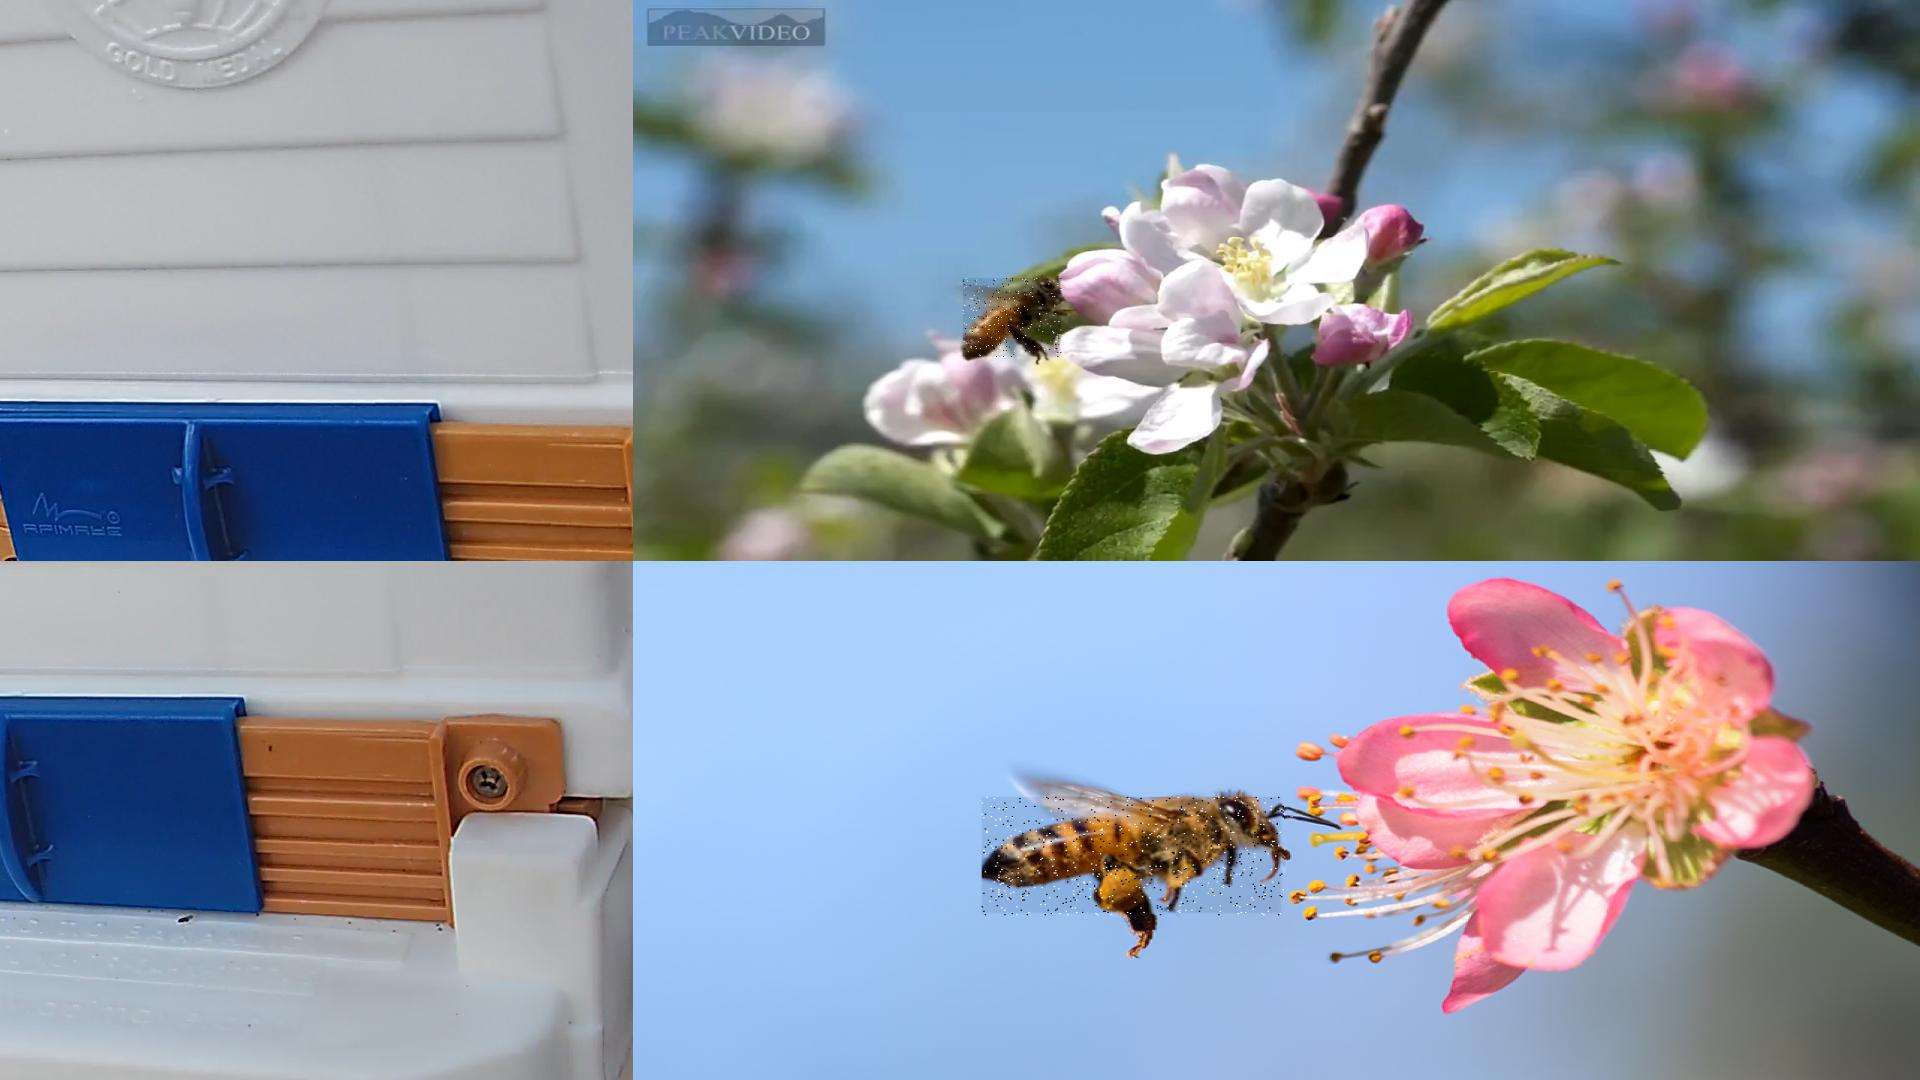bee: (963, 278, 1063, 357)
pollenbee: (984, 798, 1287, 918)
